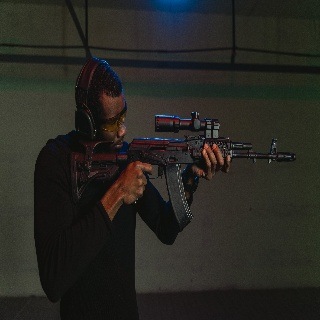rifle: (66, 111, 298, 230)
